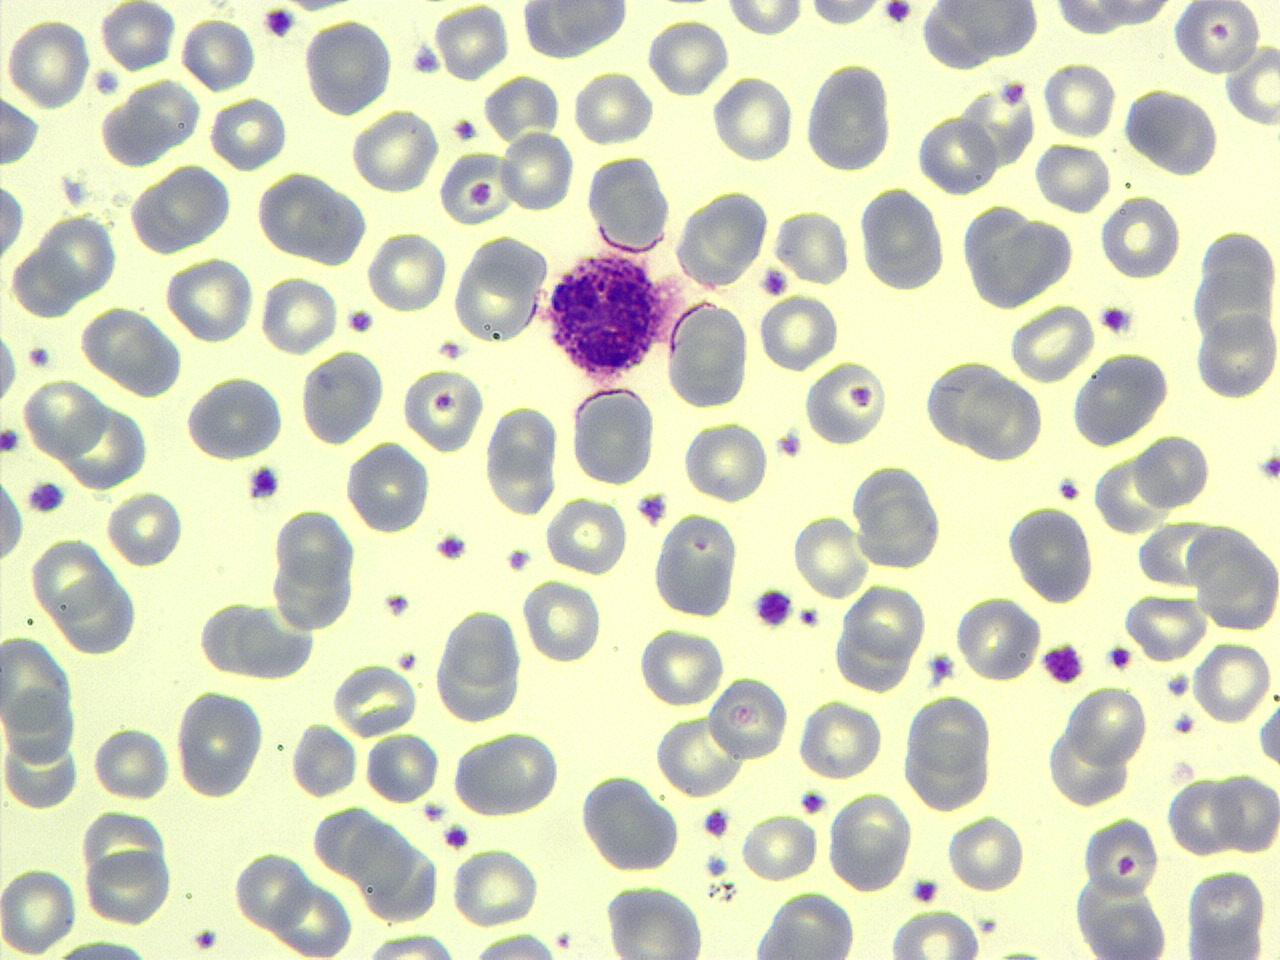Platelets: (1036, 640, 1086, 686), (750, 584, 796, 630), (25, 477, 66, 516), (246, 462, 283, 503), (1096, 302, 1136, 337), (635, 488, 670, 527), (261, 4, 297, 40), (432, 530, 469, 563), (926, 649, 958, 686), (774, 425, 804, 463), (410, 43, 442, 78), (909, 875, 943, 907), (700, 806, 732, 840), (381, 590, 414, 620), (798, 786, 830, 816), (344, 306, 376, 336), (441, 822, 473, 852), (1255, 447, 1280, 484), (996, 75, 1026, 105), (1106, 643, 1136, 673), (505, 544, 534, 574), (25, 342, 54, 371), (451, 117, 481, 145), (1164, 671, 1192, 700), (436, 338, 468, 363), (881, 1, 914, 25), (703, 851, 730, 878), (1171, 711, 1199, 737), (420, 800, 450, 824), (0, 425, 21, 456), (395, 648, 419, 672), (798, 608, 820, 628)
RBC: (960, 211, 1078, 310), (902, 690, 996, 814), (255, 166, 368, 268), (450, 234, 552, 345), (433, 604, 526, 723), (1068, 347, 1170, 452), (802, 59, 895, 174), (174, 687, 267, 801), (576, 772, 682, 872), (850, 462, 946, 571), (650, 510, 742, 620), (672, 186, 770, 289), (664, 297, 752, 410), (452, 728, 562, 818), (856, 185, 948, 292), (568, 383, 660, 486), (182, 374, 287, 464), (302, 17, 395, 118), (1005, 502, 1097, 604), (1190, 530, 1280, 634), (1122, 86, 1222, 179), (826, 789, 914, 894), (343, 436, 432, 536), (298, 347, 386, 447), (3, 14, 92, 112), (583, 154, 674, 248), (87, 308, 183, 397), (162, 254, 256, 344), (601, 881, 706, 960), (350, 105, 441, 194), (1184, 864, 1268, 960), (1194, 307, 1278, 402), (400, 364, 487, 455), (954, 593, 1041, 684), (680, 418, 772, 504), (802, 359, 890, 448), (654, 713, 746, 798), (750, 888, 861, 958), (1080, 810, 1164, 902), (924, 356, 1006, 450), (0, 862, 80, 958), (711, 72, 794, 164), (449, 845, 542, 927), (0, 634, 75, 735), (22, 376, 109, 462), (796, 698, 885, 782), (30, 533, 111, 625), (1098, 192, 1182, 280), (150, 160, 233, 249), (637, 624, 724, 708), (1065, 682, 1149, 769), (84, 845, 173, 927), (521, 576, 603, 665), (1008, 302, 1098, 383), (707, 674, 789, 762), (843, 580, 927, 665), (544, 493, 629, 577), (945, 810, 1028, 896), (1172, 0, 1262, 79), (270, 550, 354, 634), (833, 613, 918, 696), (273, 506, 356, 591), (1191, 638, 1273, 724), (366, 228, 448, 314), (964, 375, 1043, 464), (756, 290, 842, 371), (790, 511, 871, 597), (40, 213, 118, 301), (916, 113, 998, 196), (646, 15, 728, 98), (91, 722, 173, 804), (518, 0, 628, 61), (332, 661, 419, 738), (484, 430, 560, 518), (105, 487, 185, 570), (258, 273, 338, 356), (271, 880, 356, 958), (571, 68, 656, 146), (178, 13, 257, 94), (499, 128, 575, 212), (438, 146, 518, 225), (432, 3, 510, 82), (774, 207, 852, 286), (207, 94, 286, 172), (1041, 59, 1117, 140), (232, 850, 308, 930), (1134, 431, 1210, 511), (1032, 140, 1112, 216), (3, 686, 78, 767), (1122, 592, 1208, 662), (739, 810, 820, 884), (1210, 770, 1278, 856), (1167, 772, 1237, 855), (483, 70, 563, 140), (365, 731, 440, 805), (98, 1, 176, 71), (289, 720, 358, 798), (886, 906, 984, 959), (1223, 41, 1279, 129), (354, 929, 467, 960), (463, 929, 572, 960), (0, 91, 41, 168), (722, 0, 806, 37), (0, 466, 25, 572), (0, 178, 26, 269), (802, 0, 884, 28)
WBC: (540, 243, 680, 383), (956, 206, 1077, 309), (255, 168, 370, 269), (1072, 349, 1176, 450), (922, 1, 1047, 66), (518, 0, 636, 60), (1033, 0, 1193, 38)
